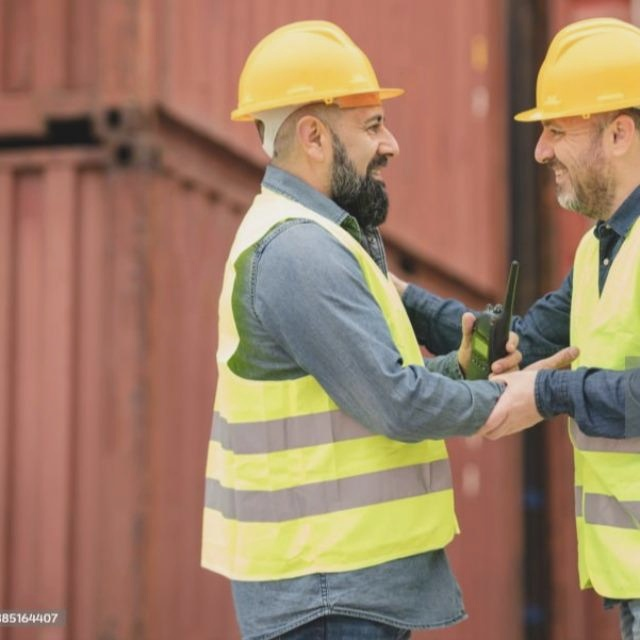Con_Casco: (235, 20, 406, 228)
Con_Chaleco: (204, 202, 462, 574), (551, 218, 640, 599)
